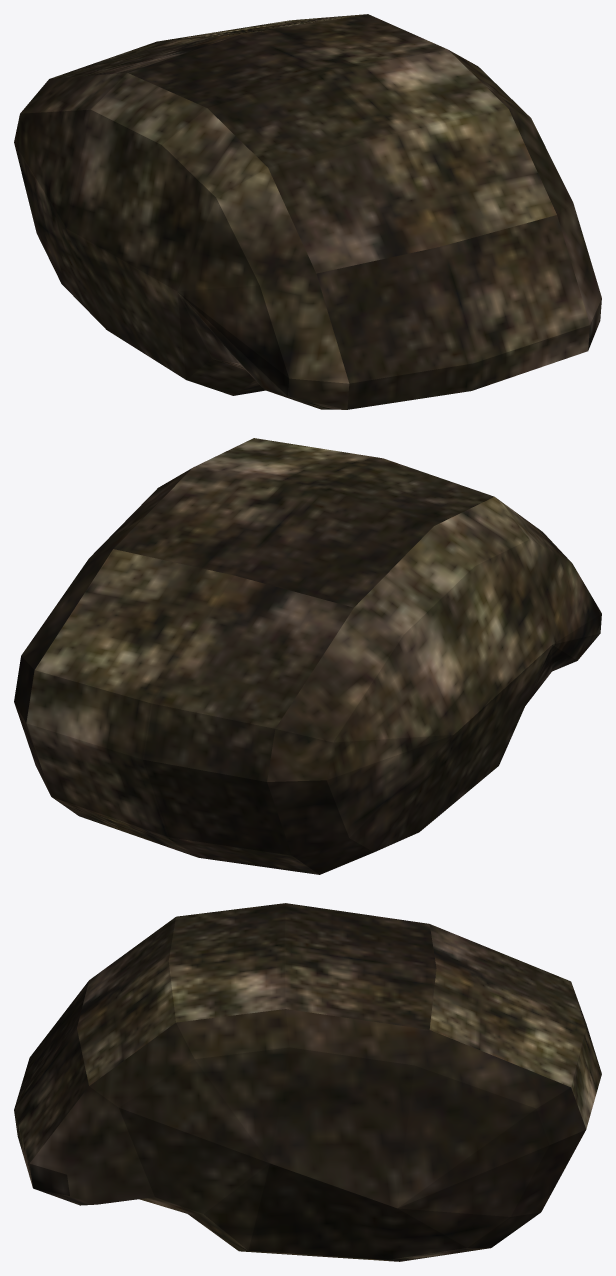
File: dungeon_wall_broken_stone02.dae
3 renders of one model, top to bottom at view 1: azimuth 30°, elevation 25°; view 2: azimuth 150°, elevation 25°; view 3: azimuth 270°, elevation 25°, orthographic. The views are drawn at different scales.
Parts seen in each view (by area): view 1: dungeon_wall_broken_stone02; view 2: dungeon_wall_broken_stone02; view 3: dungeon_wall_broken_stone02.
Part boxes in pixels (<box>): dungeon_wall_broken_stone02: <box>14,14,601,409</box>; dungeon_wall_broken_stone02: <box>14,438,601,874</box>; dungeon_wall_broken_stone02: <box>14,903,601,1261</box>.
Bounding box in the file's own units: 0.4809 × 0.3355 × 0.6695.
